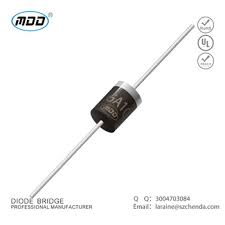diode: (63, 66, 167, 157)
